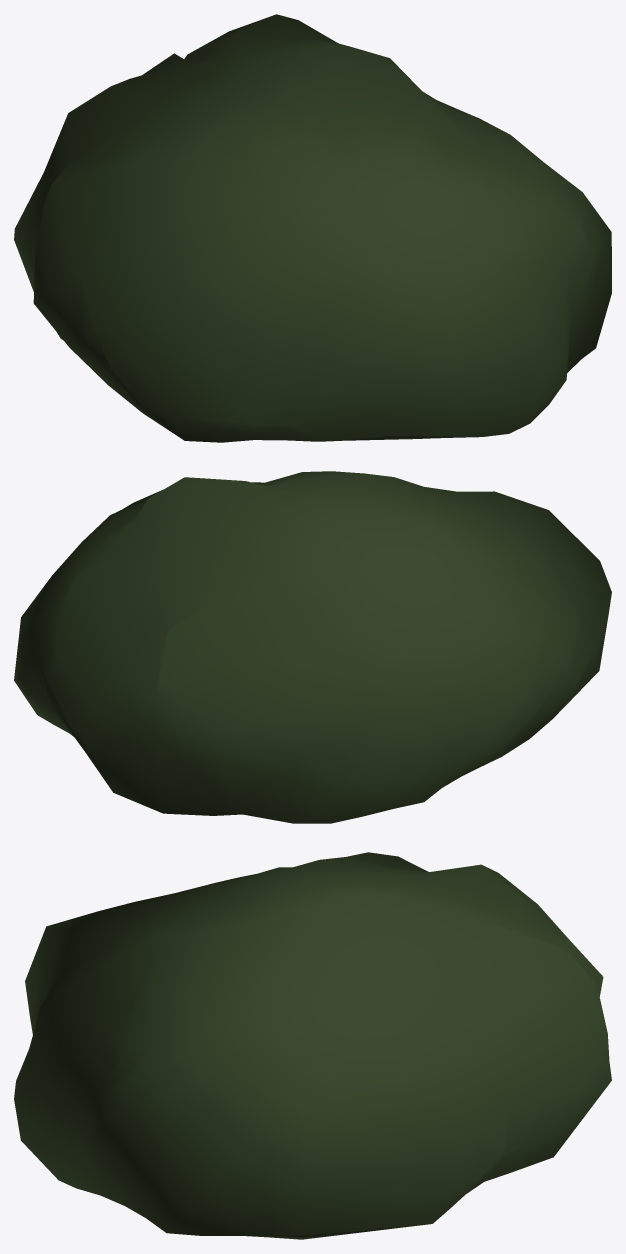
Rendered from RockBig01.fbx.
The picture shows the model from 3 angles, top to bottom: view 1: azimuth 30°, elevation 25°; view 2: azimuth 150°, elevation 25°; view 3: azimuth 270°, elevation 25°; orthographic projection. The views are drawn at different scales.
Visible parts, largest first — view 1: RockBig01; view 2: RockBig01; view 3: RockBig01.
Boxes of the visible parts, box(x1,y1,x2,y2) form: RockBig01: box(14, 14, 611, 442); RockBig01: box(14, 471, 611, 823); RockBig01: box(14, 852, 611, 1239).
Bounding box in the file's own units: 26.23 × 14.91 × 27.82.
